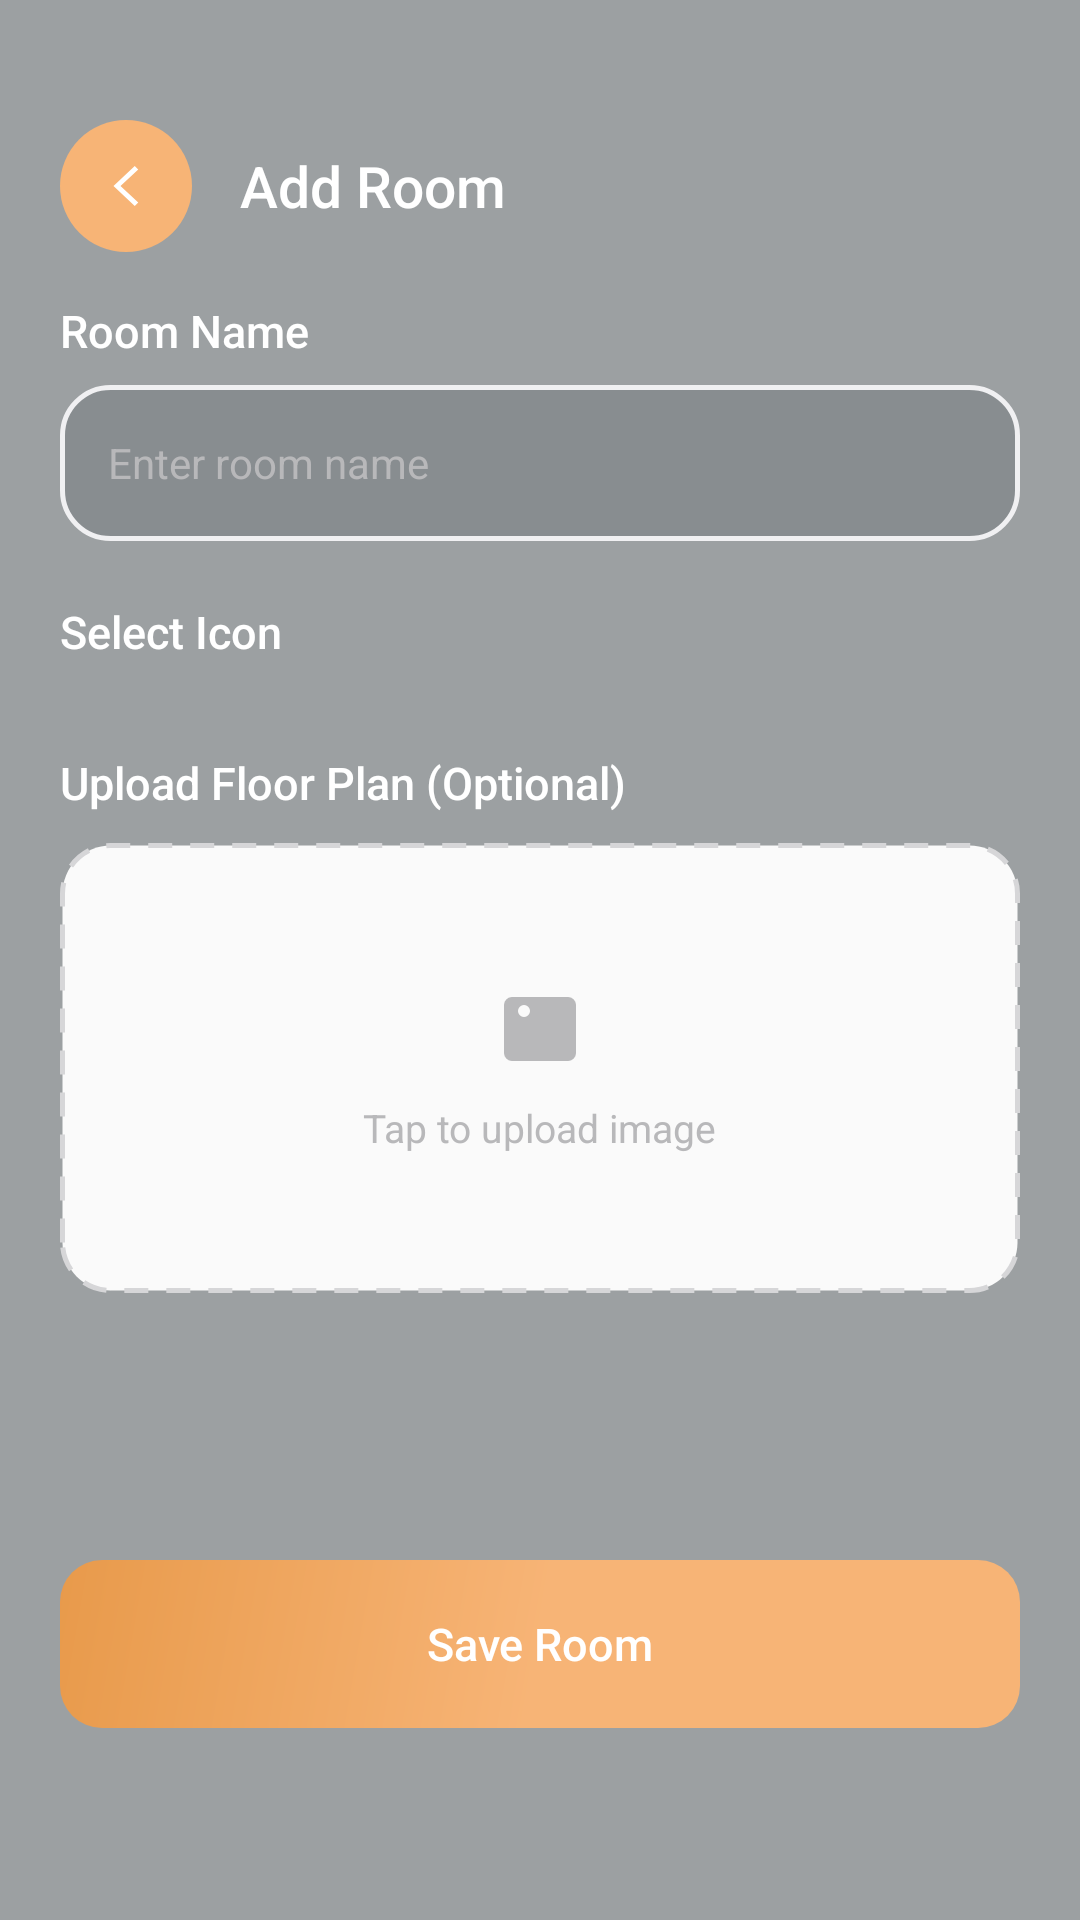

Icon click points for this 1080×1920 phone screenshot, format [x,y]:
back: [126,186]
